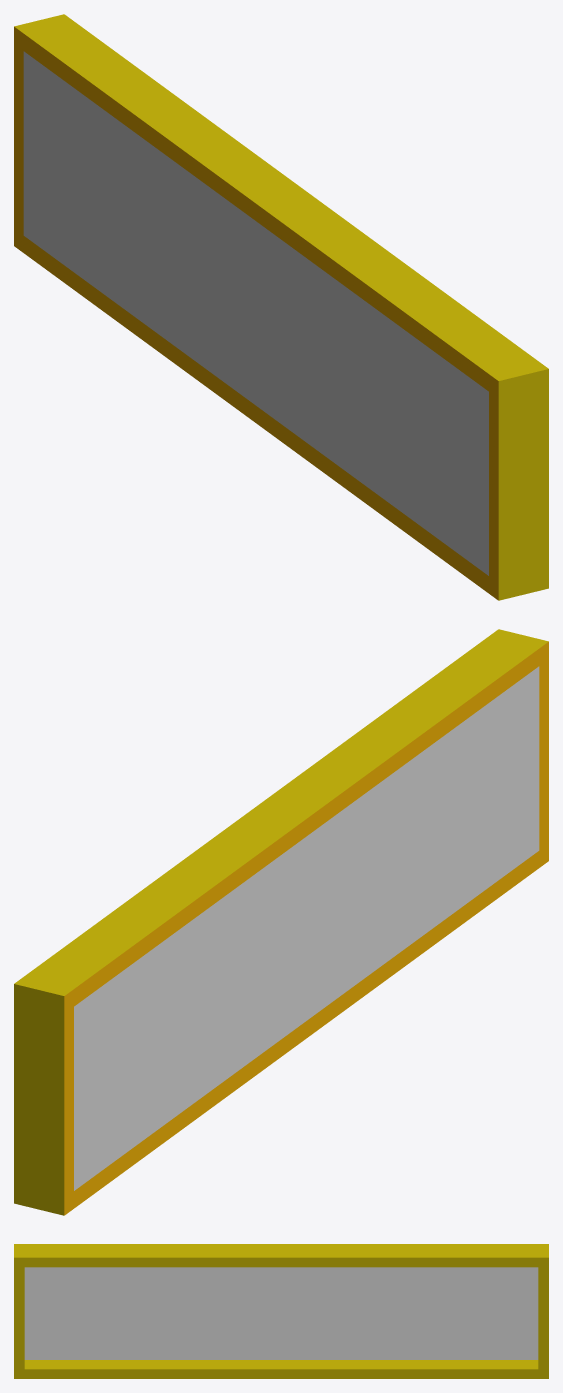
File: window_4x1.dae
3 renders of one model, top to bottom at view 1: azimuth 30°, elevation 25°; view 2: azimuth 150°, elevation 25°; view 3: azimuth 270°, elevation 25°, orthographic. The views are drawn at different scales.
Visible parts, largest first — view 1: Cube; view 2: Cube; view 3: Cube.
Boxes of the visible parts, left/top/right/bottom form: Cube: left=14, top=14, right=548, bottom=600; Cube: left=14, top=629, right=548, bottom=1215; Cube: left=14, top=1244, right=548, bottom=1378.
Bounding box in the file's own units: 0.06 × 1 × 0.25.
